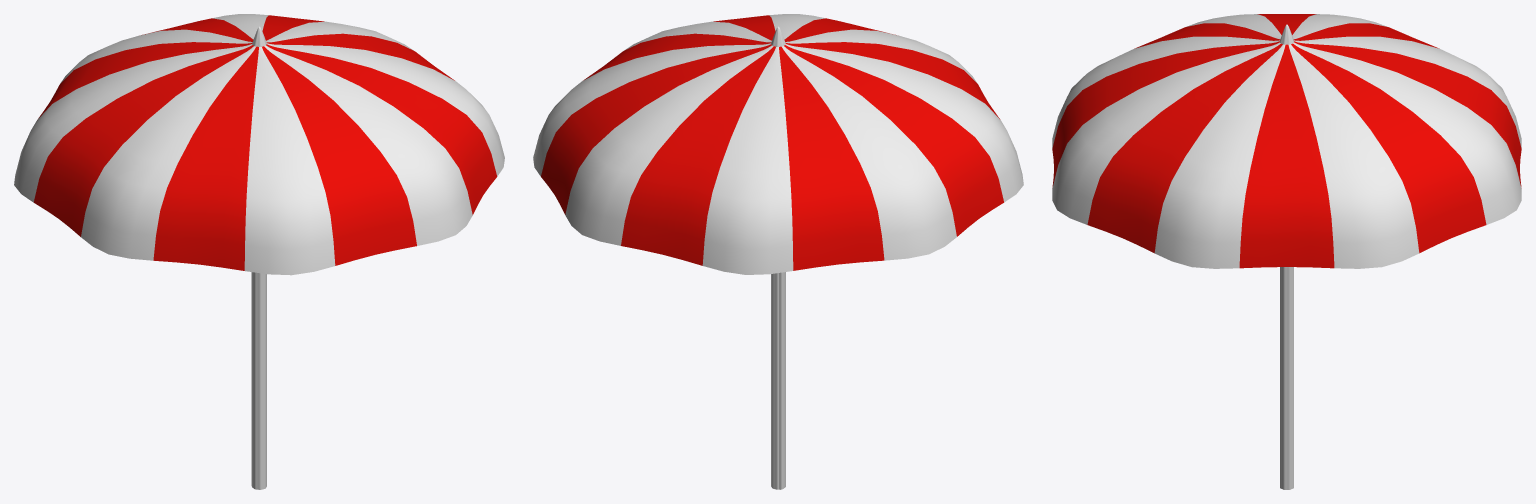
The picture shows the model from 3 angles, left to right: view 1: azimuth 30°, elevation 25°; view 2: azimuth 150°, elevation 25°; view 3: azimuth 270°, elevation 25°; orthographic projection.
Parts seen in each view (by area): view 1: Parasol; view 2: Parasol; view 3: Parasol.
Boxes of the visible parts, x1,y1,x2,y2 form: Parasol: [14, 14, 504, 489]; Parasol: [533, 14, 1023, 489]; Parasol: [1052, 14, 1521, 489].
Bounding box in the file's own units: 643 × 700 × 643.
